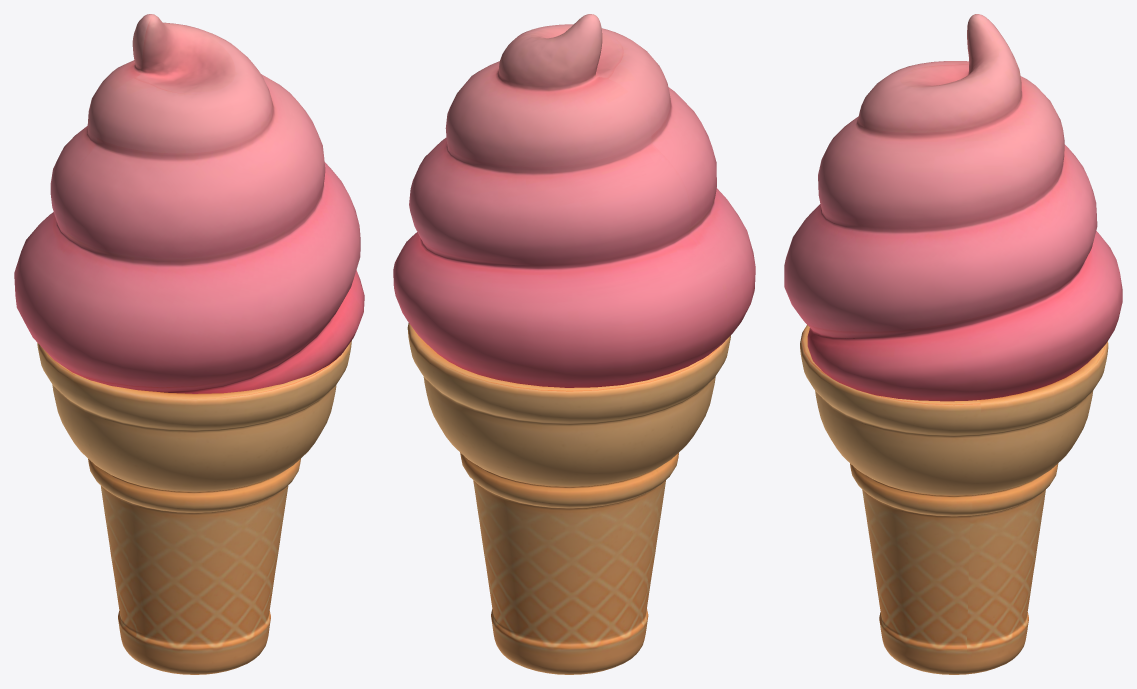
The model's file is icecream.gltf.
The picture shows the model from 3 angles, left to right: view 1: azimuth 30°, elevation 25°; view 2: azimuth 150°, elevation 25°; view 3: azimuth 270°, elevation 25°; orthographic projection. The views are drawn at different scales.
Visible parts, largest first — view 1: icecream; view 2: icecream; view 3: icecream.
Part boxes in pixels (x1,y1,x2,y2): icecream: (14,14,364,674); icecream: (393,14,755,674); icecream: (784,14,1122,674).
Size of the model in its own units: 0.1007 by 0.2001 by 0.0991.
1 material, 1 textured.
